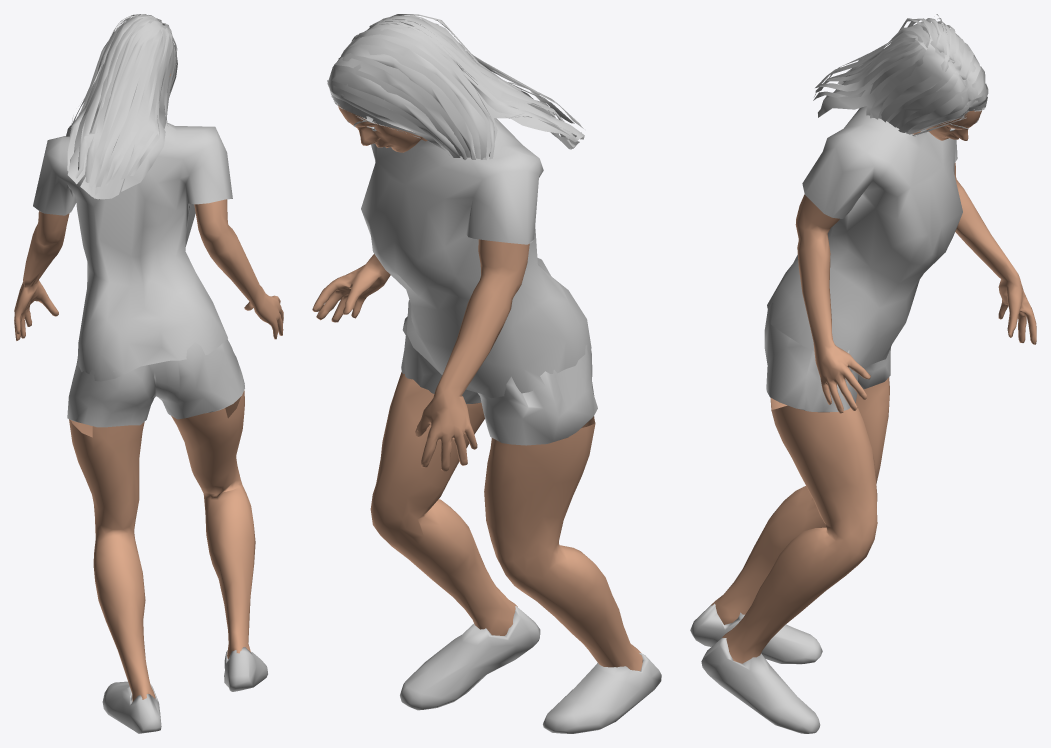
File: player2att_000015.obj
The picture shows the model from 3 angles, left to right: view 1: azimuth 30°, elevation 25°; view 2: azimuth 150°, elevation 25°; view 3: azimuth 270°, elevation 25°; orthographic projection. The views are drawn at different scales.
Parts seen in each view (by area): view 1: player2:Body, player2:tshirt02, player2:fhair01, player2:short01, player2:shoes02; view 2: player2:Body, player2:tshirt02, player2:fhair01, player2:shoes02, player2:short01; view 3: player2:Body, player2:tshirt02, player2:fhair01, player2:shoes02, player2:short01.
Boxes of the visible parts, x1,y1,x2,y2 form: player2:Body: [14, 74, 283, 701]; player2:tshirt02: [33, 122, 232, 381]; player2:fhair01: [66, 14, 177, 199]; player2:short01: [67, 339, 244, 427]; player2:shoes02: [102, 647, 267, 733]; player2:Body: [312, 105, 642, 670]; player2:tshirt02: [361, 118, 591, 398]; player2:fhair01: [327, 14, 584, 159]; player2:shoes02: [400, 606, 661, 733]; player2:short01: [401, 316, 597, 445]; player2:Body: [711, 110, 1036, 663]; player2:tshirt02: [767, 106, 962, 367]; player2:fhair01: [813, 14, 988, 136]; player2:shoes02: [690, 603, 822, 733]; player2:short01: [764, 302, 890, 412].
Size of the model in its own units: 5.72 by 15.62 by 7.15.
